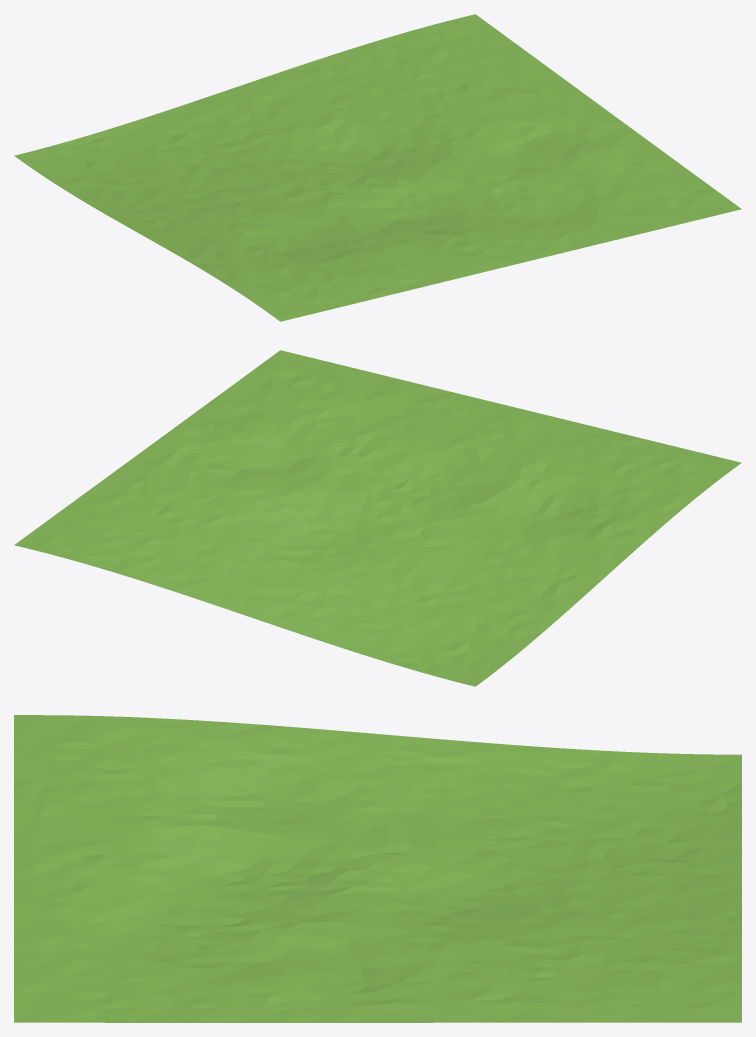
Rendered from MT_River_End_L_d_05_LOD.fbx.
The picture shows the model from 3 angles, top to bottom: view 1: azimuth 30°, elevation 25°; view 2: azimuth 150°, elevation 25°; view 3: azimuth 270°, elevation 25°; orthographic projection. The views are drawn at different scales.
Parts seen in each view (by area): view 1: MT_River_End_L_d_05_LOD0; view 2: MT_River_End_L_d_05_LOD0; view 3: MT_River_End_L_d_05_LOD0.
Part boxes in pixels (x1,y1,x2,y2): MT_River_End_L_d_05_LOD0: [14, 14, 741, 321]; MT_River_End_L_d_05_LOD0: [14, 350, 741, 686]; MT_River_End_L_d_05_LOD0: [14, 715, 741, 1022].
Size of what is drawn, in the model's own units: 10000 by 622 by 10000.
